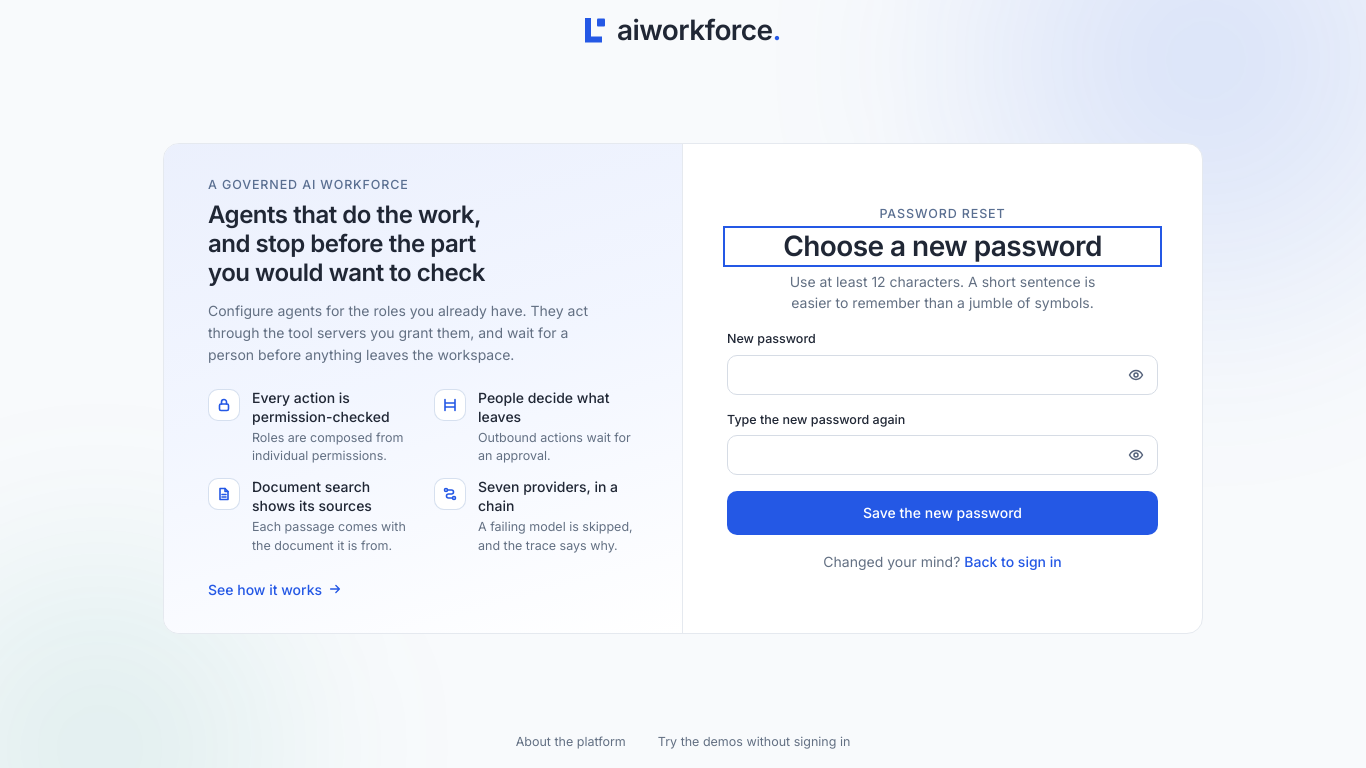
Test case: Reset link › shows the service sentence when the link no longer works
In the password field labelled "New password": [942, 375] box [727,355,1158,395], type "a long new passphrase"
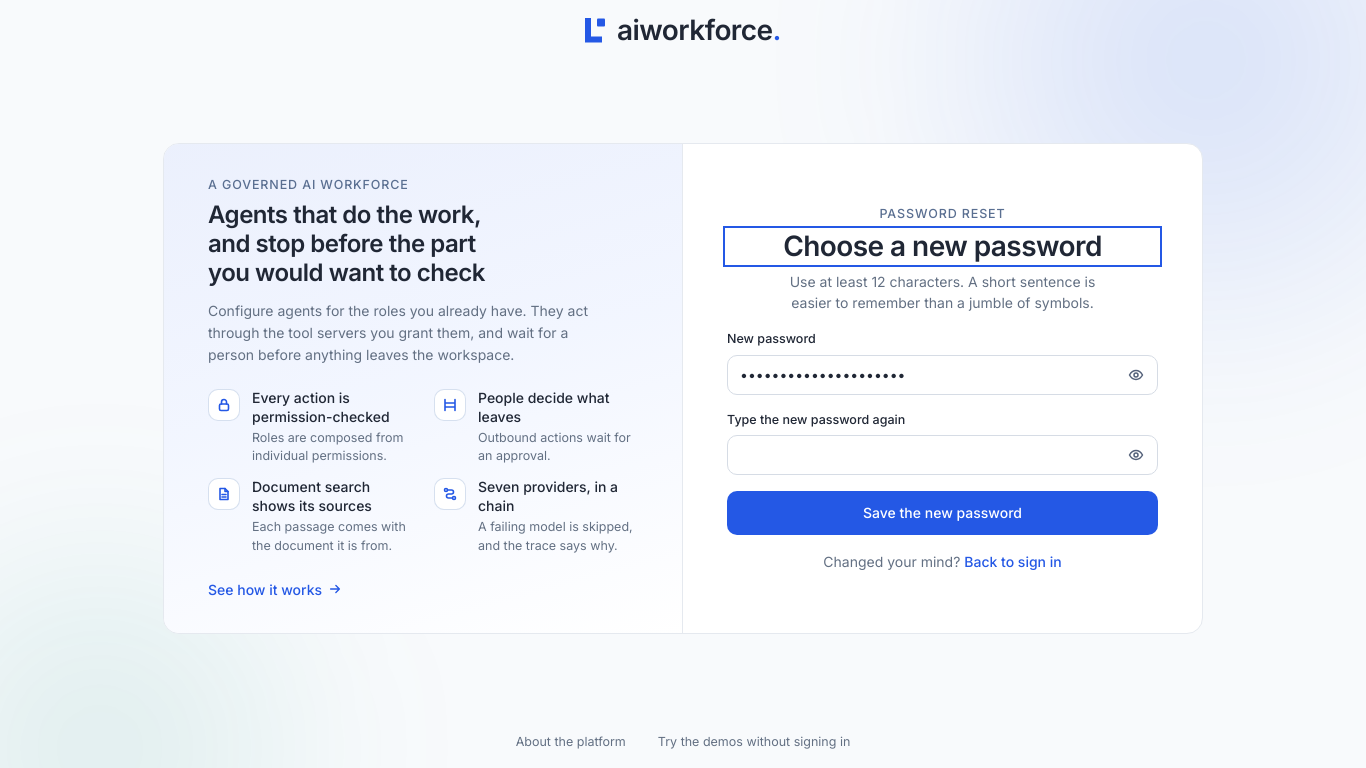
In the password field labelled "Type the new password again": [942, 455] box [727,435,1158,475], type "a long new passphrase"
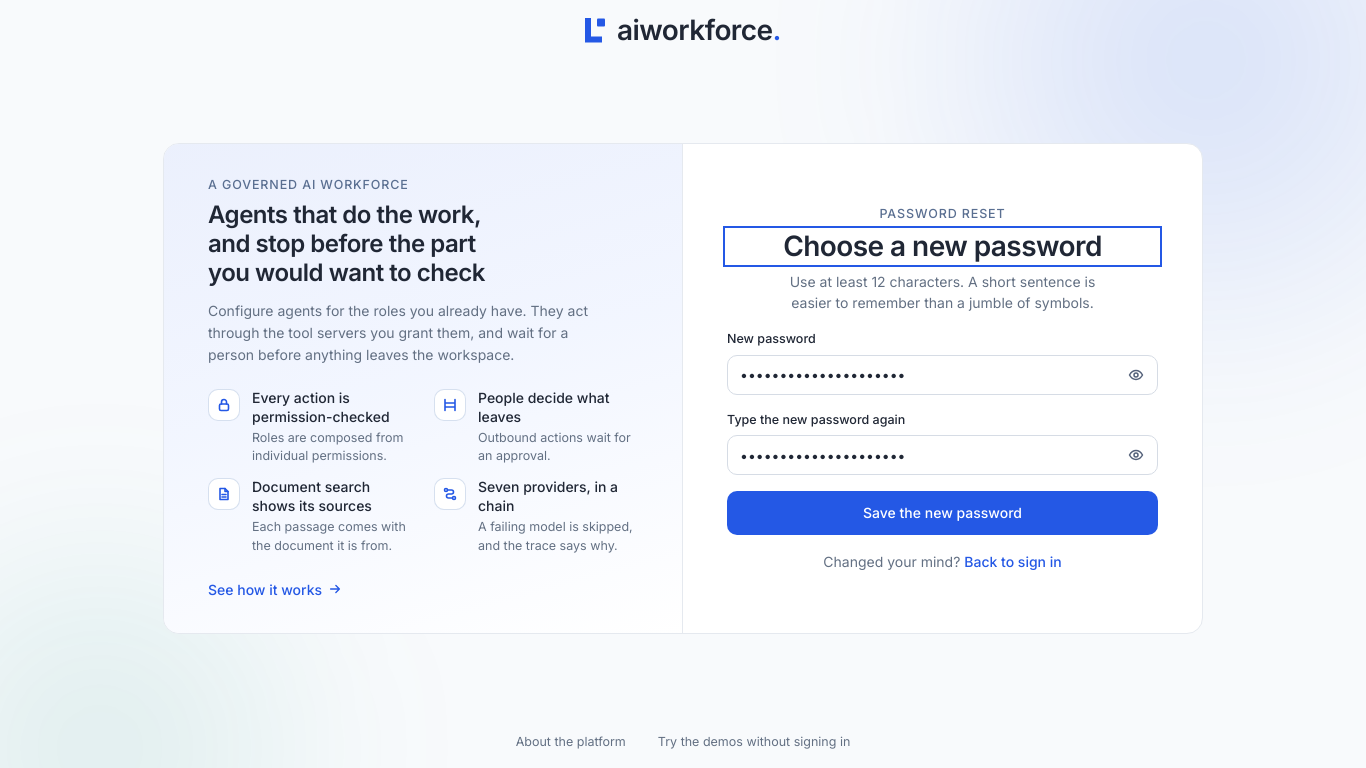
Click the button "Save the new password": [942, 513] box [727,491,1158,535]
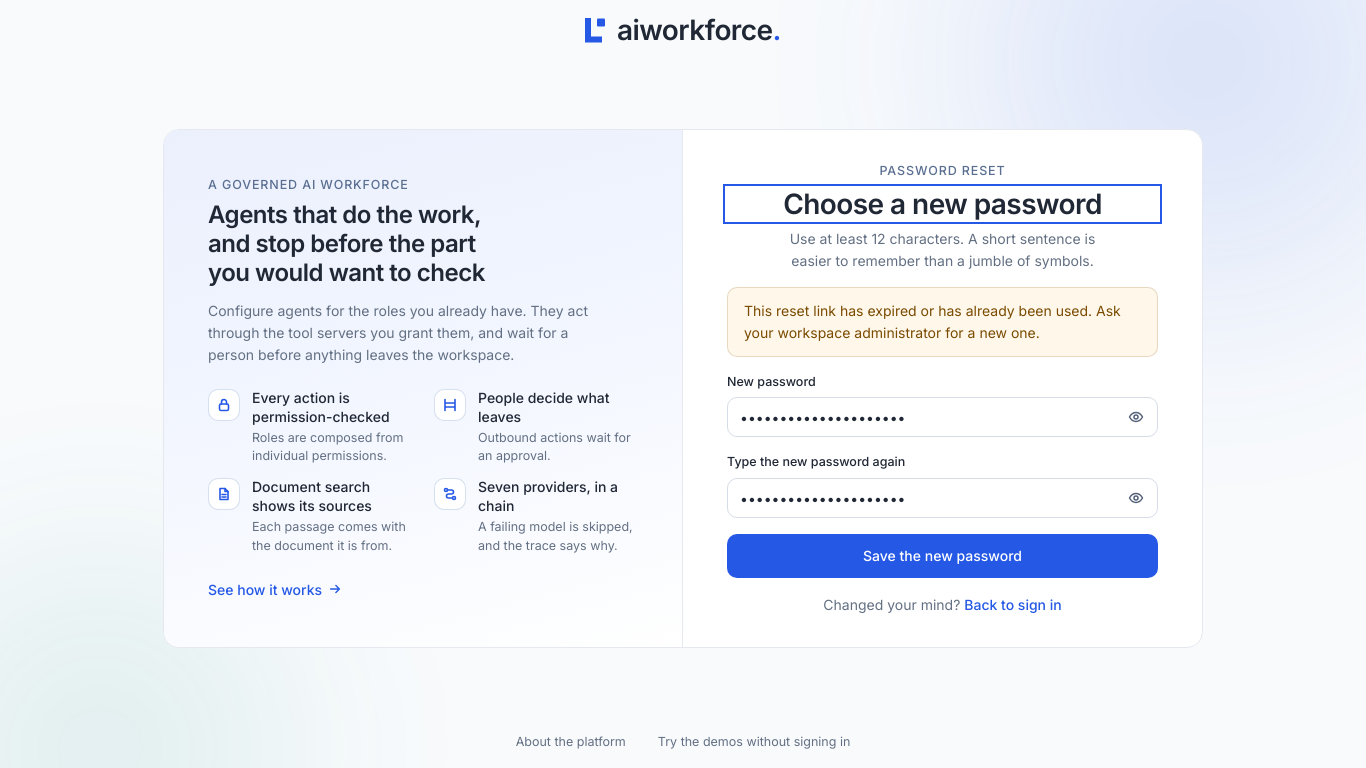
Expected: the message shows "This reset link has expired or has already been used. Ask your workspace administrator for a new one.", [744,302,1121,341]
